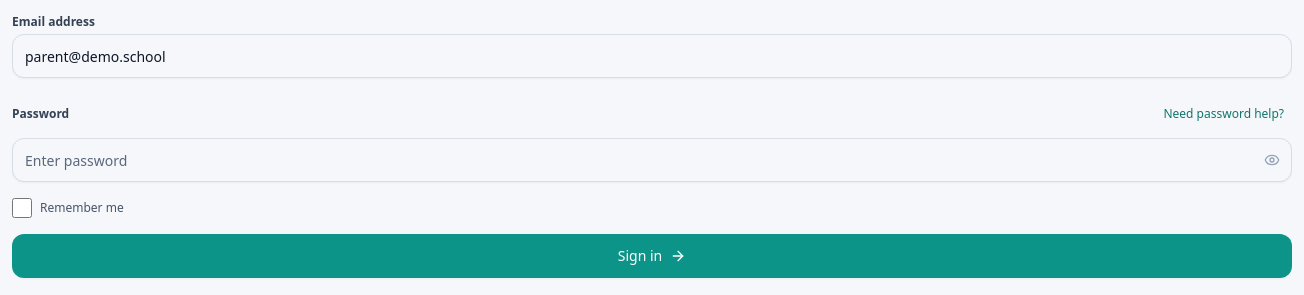
Test case: LoginForm Password Show/Hide Control › toggles password visibility between password and text when clicked
This screenshot has width=1304, height=295.
Click the button named "Show password" at coordinates (1272, 160), box [1258,146,1286,174]
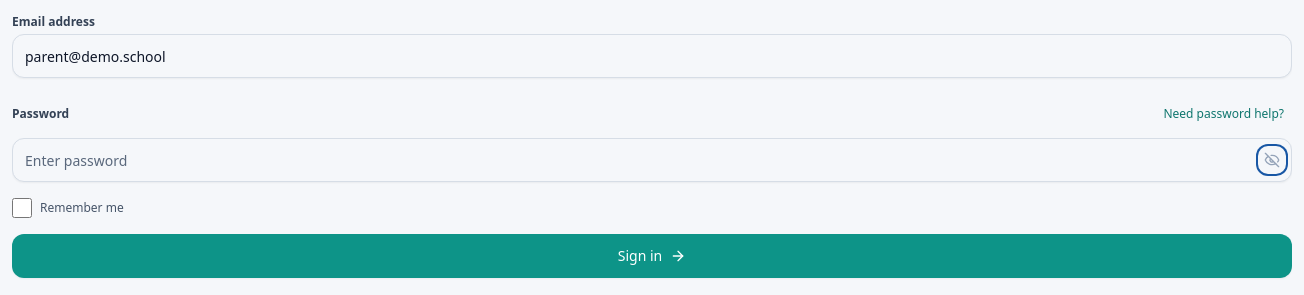
Now the button named "Hide password" is shown
Click the button named "Hide password" at coordinates (1272, 160), box [1258,146,1286,174]
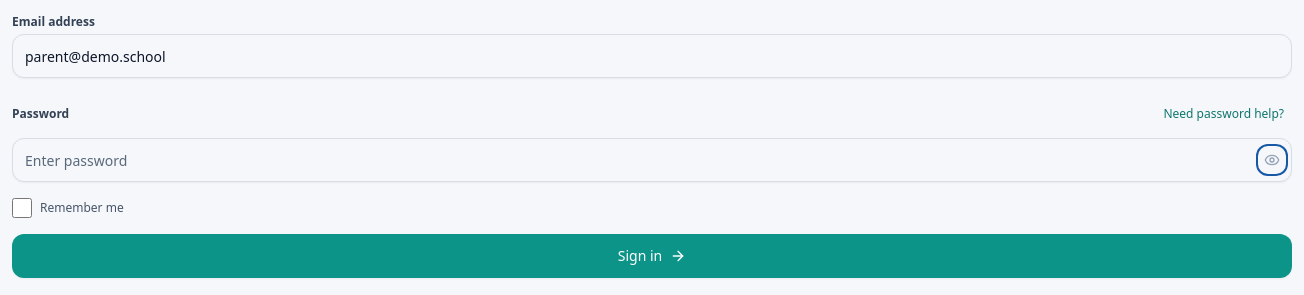
Now the button named "Show password" is shown, box [1258,146,1286,174]
